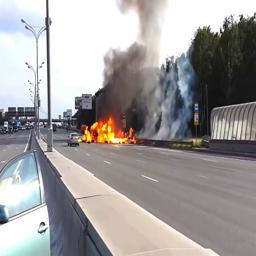fire: (82, 115, 136, 144)
